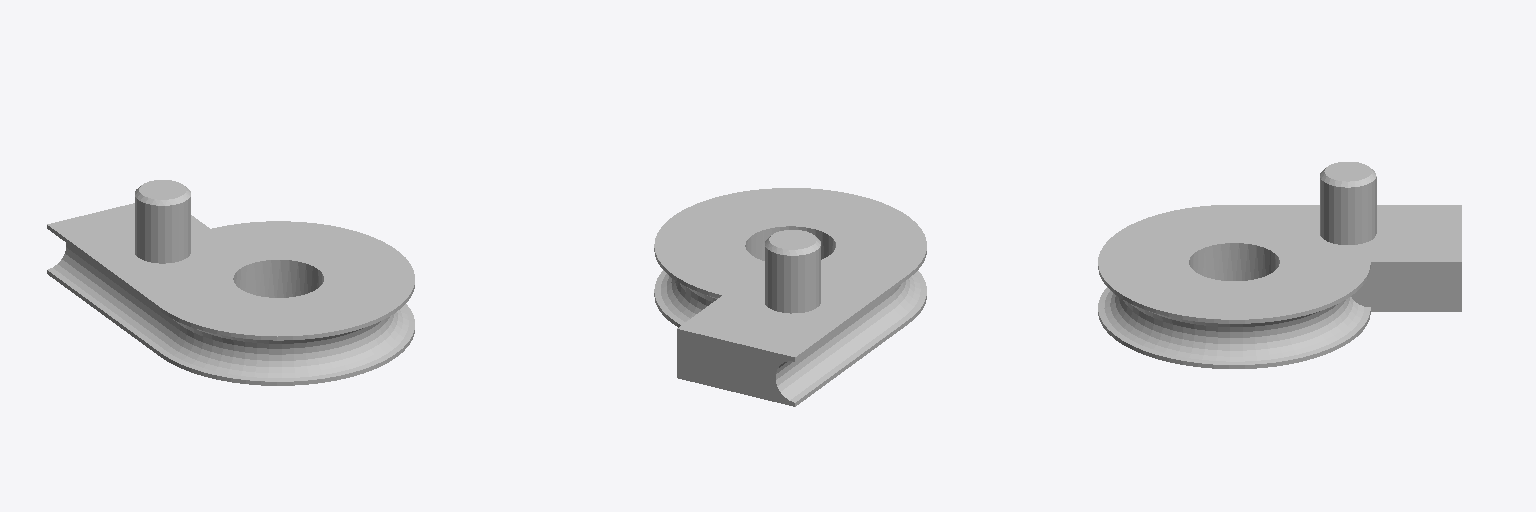
Rendered from Bending Die.obj.
3 views of the same model, side by side, from view 1: azimuth 30°, elevation 25°; view 2: azimuth 150°, elevation 25°; view 3: azimuth 270°, elevation 25° (orthographic).
Visible parts, largest first — view 1: Bending Die; view 2: Bending Die; view 3: Bending Die.
Boxes of the visible parts, x1=… form: Bending Die: x1=47, y1=180, x2=414, y2=385; Bending Die: x1=654, y1=188, x2=926, y2=406; Bending Die: x1=1098, y1=162, x2=1461, y2=368.
Bounding box in the file's own units: 120 × 54 × 160.